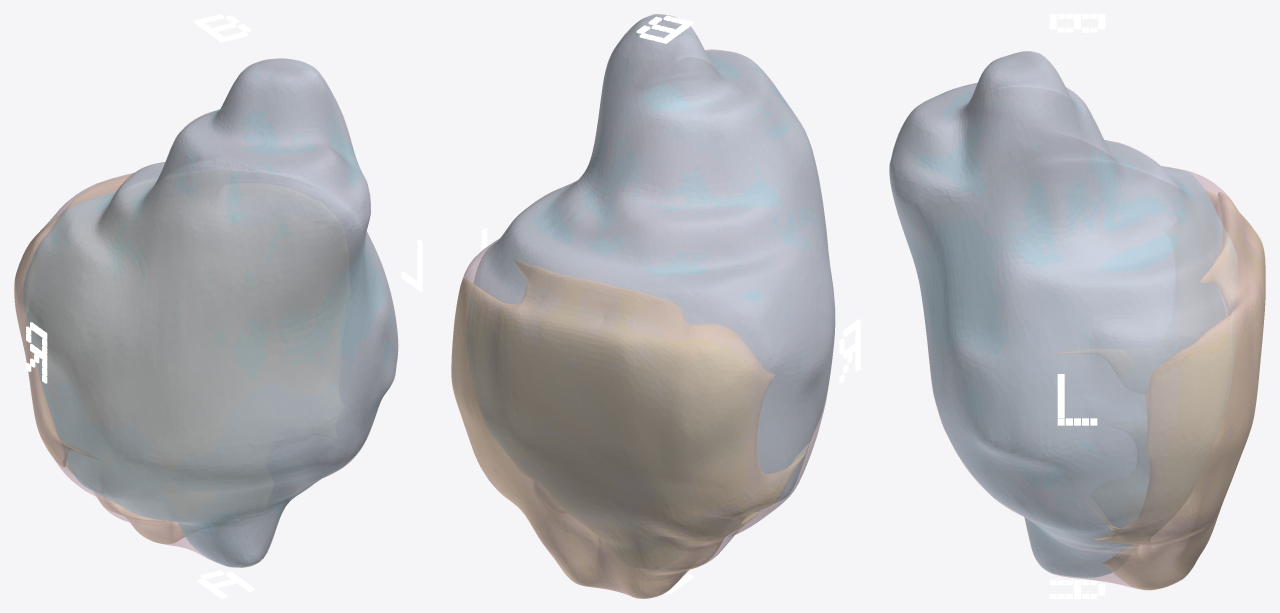
The picture shows the model from 3 angles, left to right: view 1: azimuth 30°, elevation 25°; view 2: azimuth 150°, elevation 25°; view 3: azimuth 270°, elevation 25°; orthographic projection. The views are drawn at different scales.
Parts seen in each view (by area): view 1: prostate_gland, transition_zone, peripheral_zone, pv_ar_marker_B, pv_ar_marker_R, pv_ar_marker_A; view 2: prostate_gland, peripheral_zone, transition_zone, pv_ar_marker_B, pv_ar_marker_R; view 3: prostate_gland, transition_zone, peripheral_zone, pv_ar_marker_B, pv_ar_marker_A, pv_ar_marker_L.
Part boxes in pixels (<box>): prostate_gland: <box>14,58,398,567</box>; transition_zone: <box>23,59,397,567</box>; peripheral_zone: <box>14,175,348,543</box>; pv_ar_marker_B: <box>193,14,250,42</box>; pv_ar_marker_R: <box>26,322,47,383</box>; pv_ar_marker_A: <box>197,570,254,598</box>; prostate_gland: <box>451,14,835,598</box>; peripheral_zone: <box>451,260,809,598</box>; transition_zone: <box>467,15,834,511</box>; pv_ar_marker_B: <box>636,15,693,43</box>; pv_ar_marker_R: <box>839,319,860,383</box>; prostate_gland: <box>889,51,1265,589</box>; transition_zone: <box>890,51,1237,577</box>; peripheral_zone: <box>1033,190,1265,590</box>; pv_ar_marker_B: <box>1049,14,1105,32</box>; pv_ar_marker_A: <box>1049,580,1105,598</box>; pv_ar_marker_L: <box>1057,374,1097,425</box>.
Size of the model in its own units: 0.0628 by 0.0888 by 0.0534.
